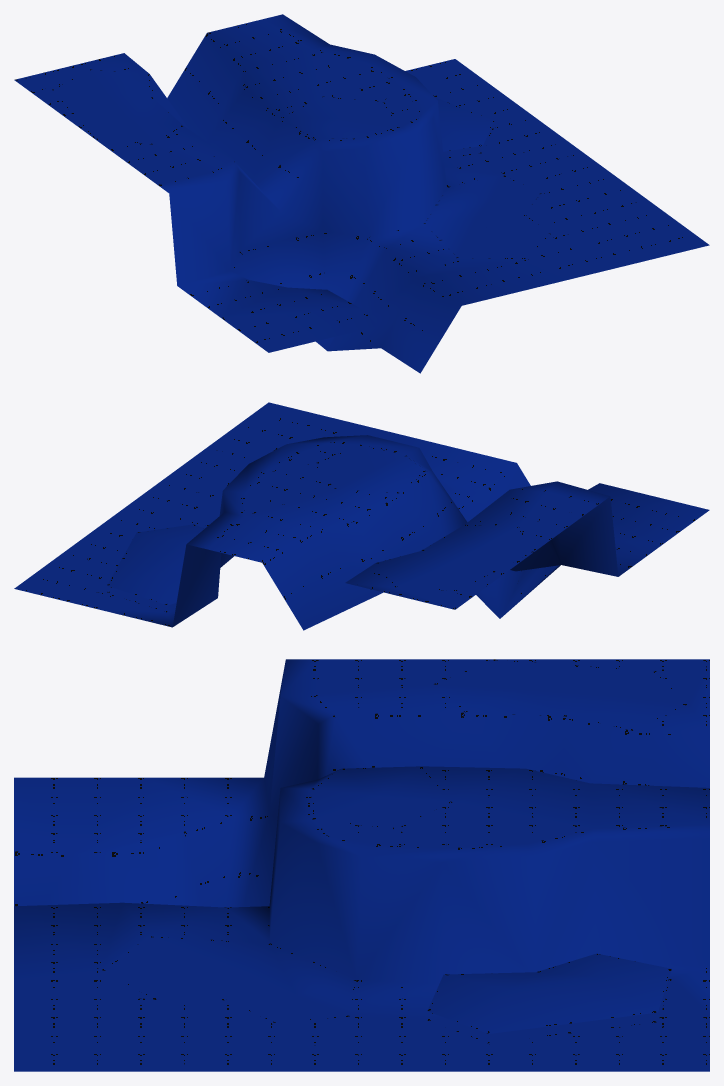
Rendered from GRD_S_C2_R1_2.fbx.
3 views of the same model, one above another, from view 1: azimuth 30°, elevation 25°; view 2: azimuth 150°, elevation 25°; view 3: azimuth 270°, elevation 25° (orthographic). The views are drawn at different scales.
Parts seen in each view (by area): view 1: material_00022000, material_C0052000, material_00042000, material_C0032000, material_C0012000; view 2: material_00022000, material_C0052000, material_00042000, material_C0032000, material_C0012000, material_C0062000; view 3: material_00022000, material_00042000, material_C0052000, material_C0032000, material_C0012000, material_C0062000.
Boxes of the visible parts, x1,y1,x2,y2 form: material_00022000: (14,19,709,352); material_C0052000: (149,33,461,373); material_00042000: (157,14,446,285); material_C0032000: (51,69,550,258); material_C0012000: (435,97,494,151); material_00022000: (14,402,709,627); material_C0052000: (262,463,560,630); material_00042000: (172,435,618,626); material_C0032000: (315,444,534,590); material_C0012000: (107,524,204,605); material_C0062000: (107,587,176,612); material_00022000: (14,659,709,1071); material_00042000: (264,659,709,983); material_C0052000: (14,712,709,907); material_C0032000: (101,659,687,1023); material_C0012000: (427,953,671,1033); material_C0062000: (427,978,671,1043).
Bounding box in the file's own units: 12800 × 4800 × 12800.
